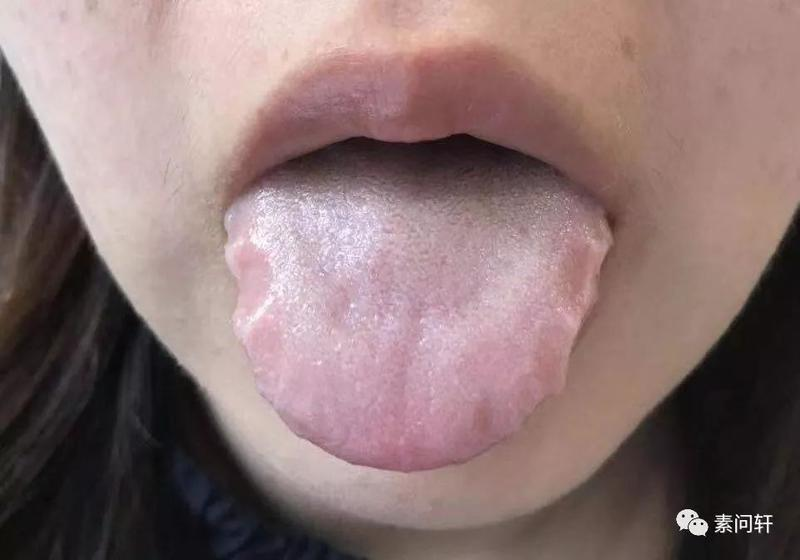baitaishe: (222, 176, 615, 473)
chihenshe: (528, 235, 616, 399), (222, 239, 292, 390)
pangdashe: (221, 176, 614, 473)
